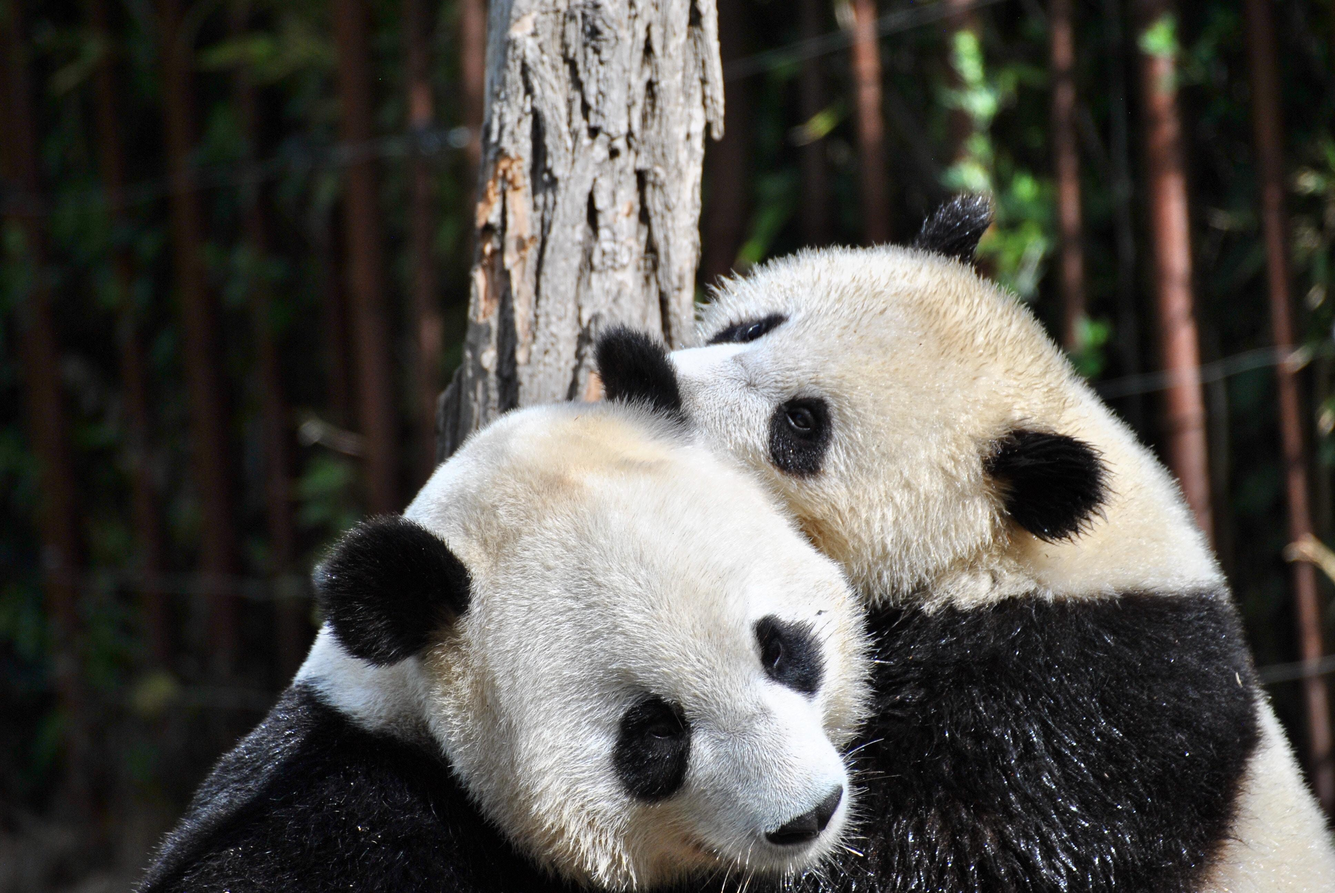panda: (134, 323, 878, 893)
